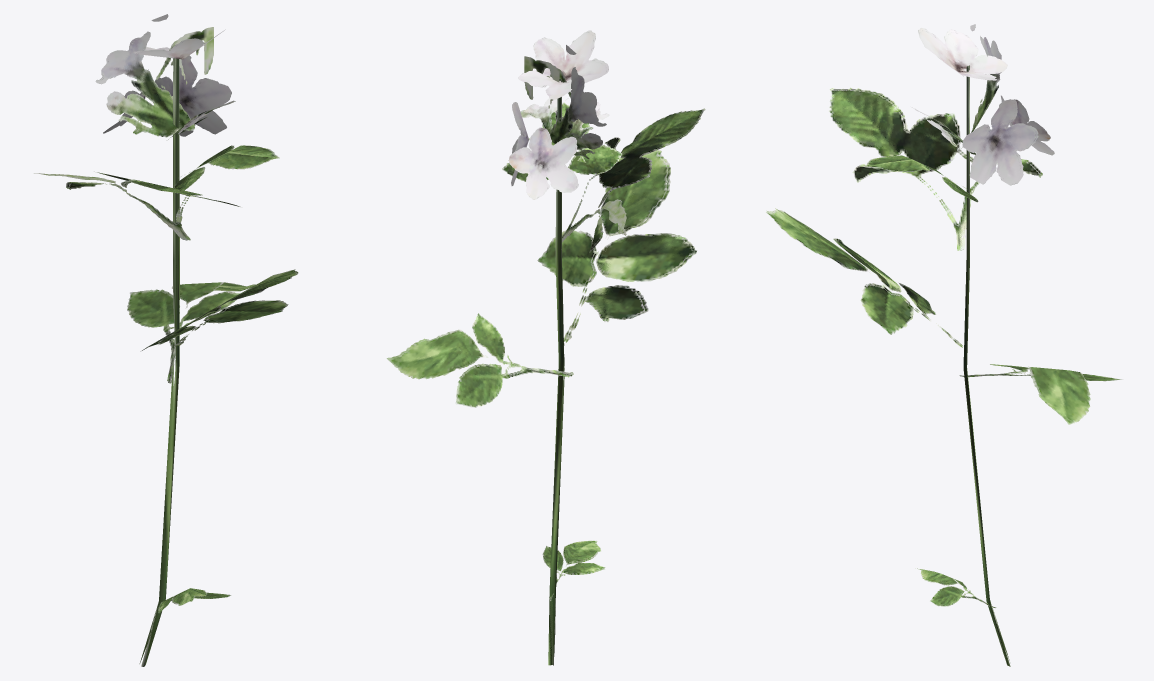
The model's file is flower.fbx.
3 renders of one model, left to right at view 1: azimuth 30°, elevation 25°; view 2: azimuth 150°, elevation 25°; view 3: azimuth 270°, elevation 25°, orthographic. The views are drawn at different scales.
Visible parts, largest first — view 1: mesh_7_110.nr; view 2: mesh_7_110.nr; view 3: mesh_7_110.nr.
Part boxes in pixels (x1,y1,x2,y2): mesh_7_110.nr: (34, 14, 298, 666); mesh_7_110.nr: (386, 30, 705, 665); mesh_7_110.nr: (766, 24, 1123, 666).
Bounding box in the file's own units: 0.2221 × 0.5153 × 0.2734.
